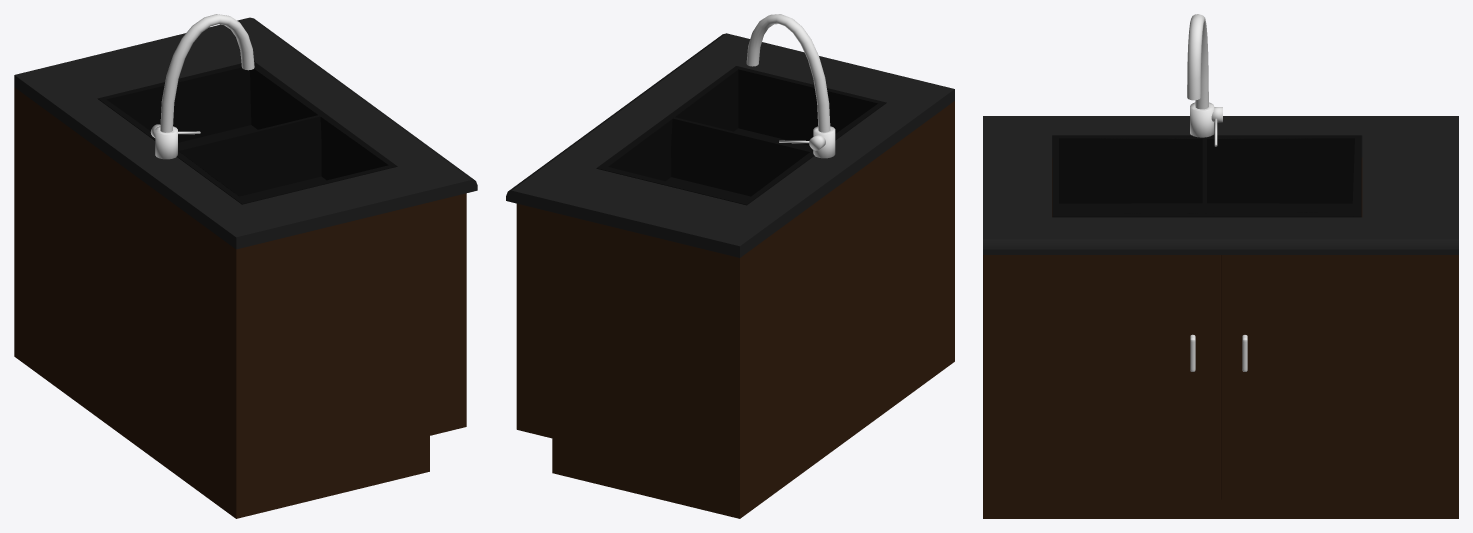
File: Cabinet_Sink.fbx
3 renders of one model, left to right at view 1: azimuth 30°, elevation 25°; view 2: azimuth 150°, elevation 25°; view 3: azimuth 270°, elevation 25°, orthographic. The views are drawn at different scales.
Parts seen in each view (by area): view 1: Cabinet.001, Sink, Door_LEft; view 2: Cabinet.001, Sink, Door_Right; view 3: Door_LEft, Door_Right, Cabinet.001, Sink.
Part boxes in pixels (x1,y1,x2,y2): Cabinet.001: (14,14,477,518); Sink: (97,61,397,204); Door_LEft: (455,193,466,429); Cabinet.001: (506,14,954,518); Sink: (596,66,886,205); Door_Right: (516,203,527,432); Door_LEft: (983,255,1220,499); Door_Right: (1221,255,1458,499); Cabinet.001: (983,14,1458,518); Sink: (1052,135,1361,217).
Size of the model in its own units: 62.83 by 102 by 100.
